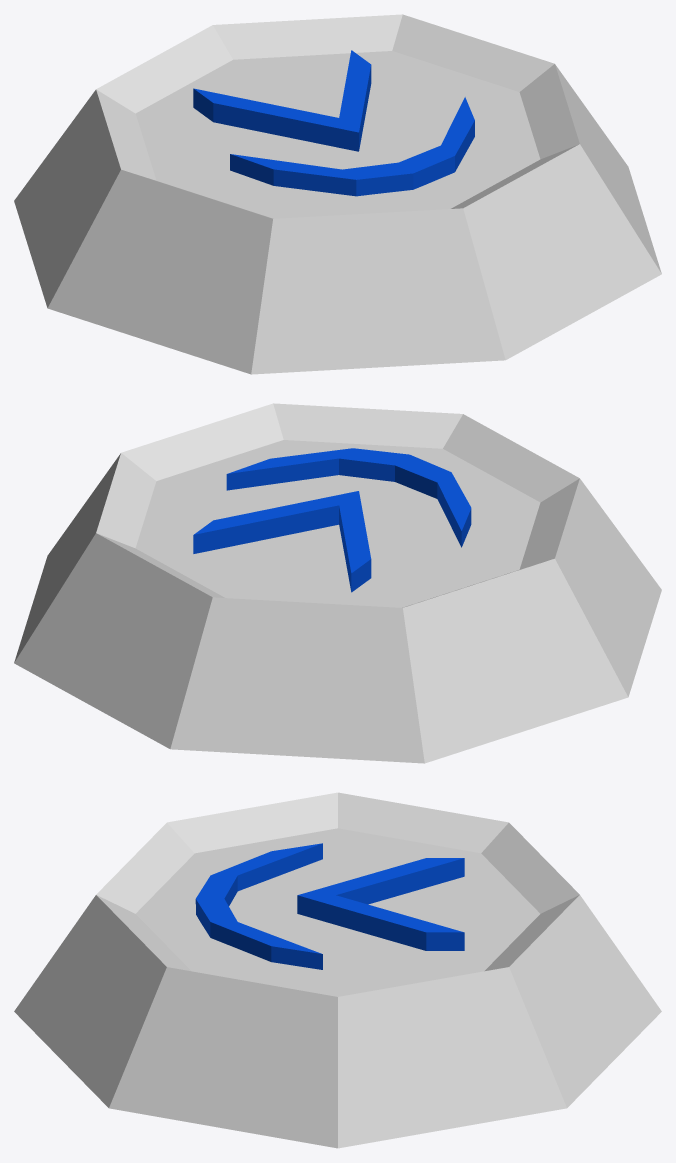
The model's file is HQButton.fbx.
3 renders of one model, top to bottom at view 1: azimuth 30°, elevation 25°; view 2: azimuth 150°, elevation 25°; view 3: azimuth 270°, elevation 25°, orthographic. The views are drawn at different scales.
Parts seen in each view (by area): view 1: Base, Button, Smilly; view 2: Base, Button, Smilly; view 3: Base, Button, Smilly.
Boxes of the visible parts, left/top/right/bottom form: Base: left=14, top=14, right=661, bottom=374; Button: left=135, top=51, right=540, bottom=218; Smilly: left=193, top=50, right=474, bottom=196; Base: left=14, top=403, right=661, bottom=763; Button: left=135, top=440, right=540, bottom=607; Smilly: left=193, top=448, right=471, bottom=592; Base: left=14, top=792, right=661, bottom=1148; Button: left=136, top=828, right=539, bottom=996; Smilly: left=195, top=843, right=464, bottom=969.
Size of the model in its own units: 503 by 116 by 503.
